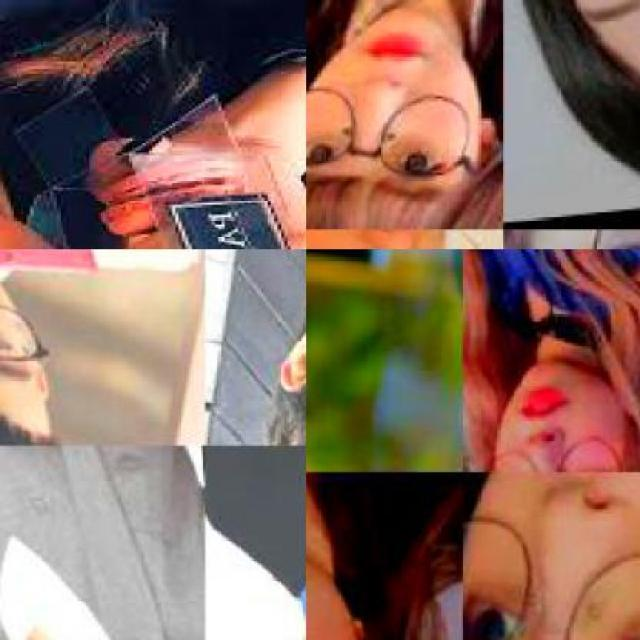glasses: (461, 515, 640, 638), (306, 90, 475, 178), (472, 420, 638, 472), (0, 306, 57, 366)
